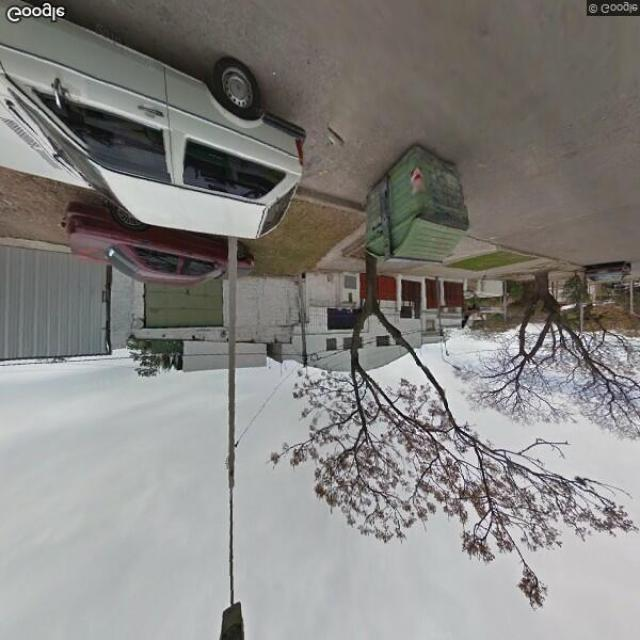garbage container: (353, 132, 479, 276)
